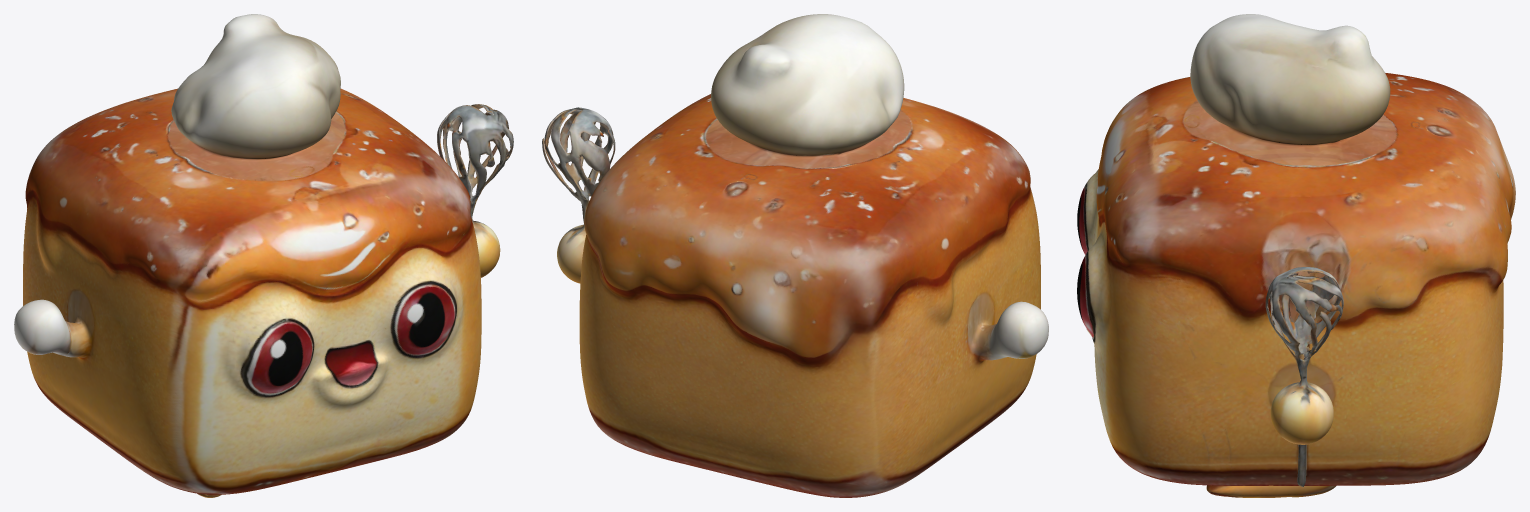
Rendered from 카스테라몬.glb.
3 renders of one model, left to right at view 1: azimuth 30°, elevation 25°; view 2: azimuth 150°, elevation 25°; view 3: azimuth 270°, elevation 25°, orthographic. The views are drawn at different scales.
Bounding box in the file's own units: 2 × 1.61 × 1.47.
1 material, 1 textured.
